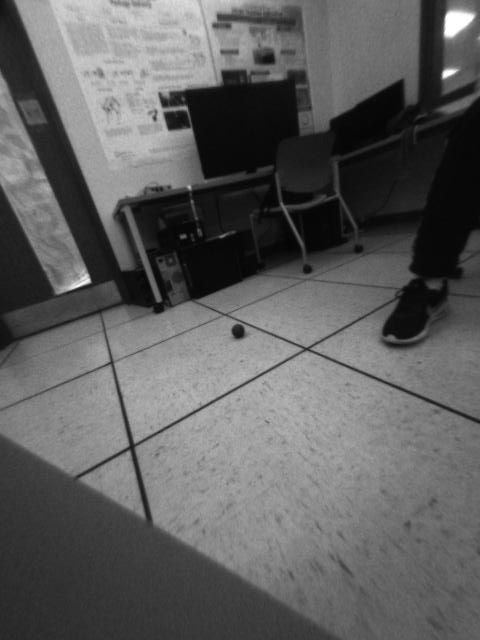dogtoy: (222, 313, 254, 346)
